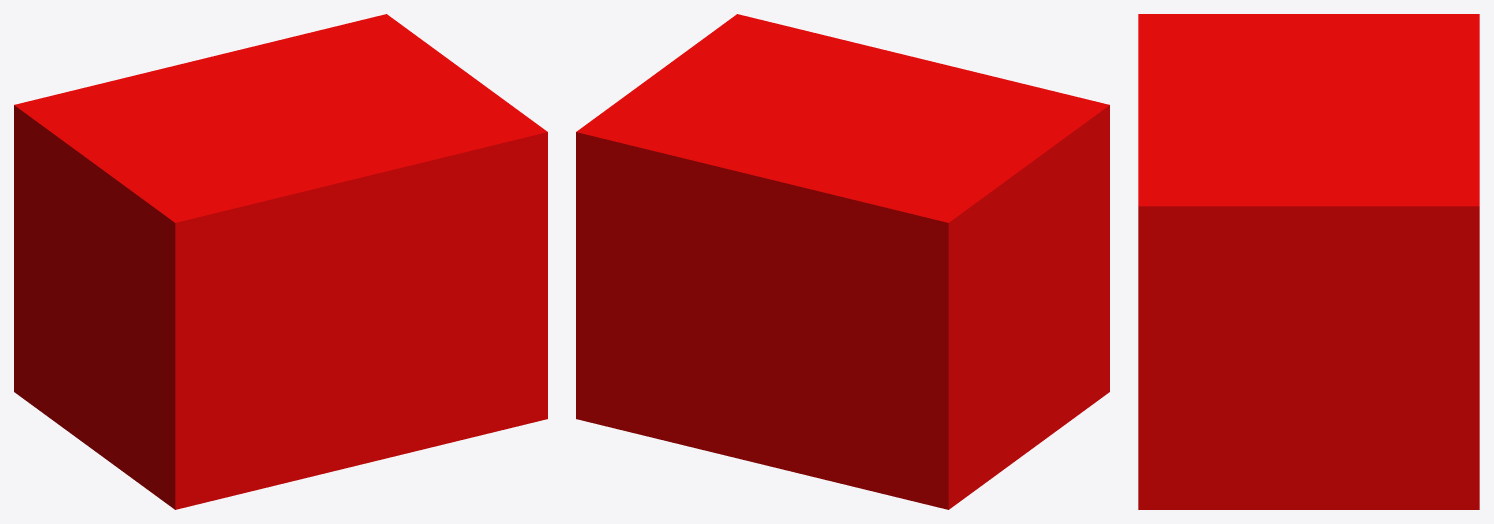
Rendered from r_ham_col.dae.
3 renders of one model, left to right at view 1: azimuth 30°, elevation 25°; view 2: azimuth 150°, elevation 25°; view 3: azimuth 270°, elevation 25°, orthographic. The views are drawn at different scales.
Visible parts, largest first — view 1: node0; view 2: node0; view 3: node0.
Boxes of the visible parts, box(x1,y1,x2,y2) form: node0: box(14, 14, 547, 509); node0: box(576, 14, 1109, 509); node0: box(1138, 14, 1479, 509).
Size of the model in its own units: 0.0256 by 0.0188 by 0.0192.
